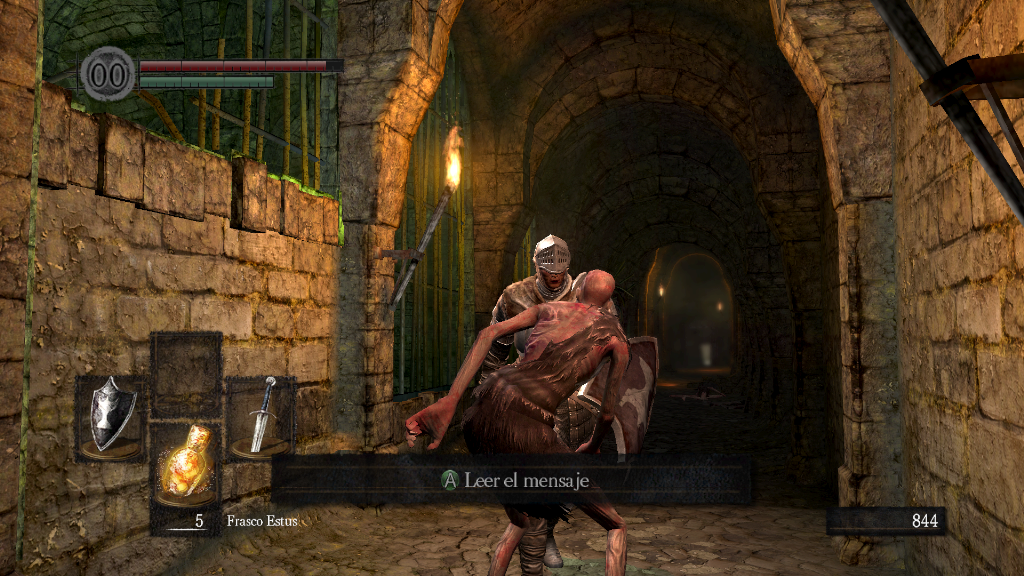dialogBox: (270, 453, 756, 505)
health: (138, 58, 343, 71)
hollow: (406, 269, 631, 576)
humanity: (80, 45, 136, 102)
player: (477, 233, 660, 576)
souls: (825, 506, 945, 536)
stamina: (138, 74, 274, 88)
